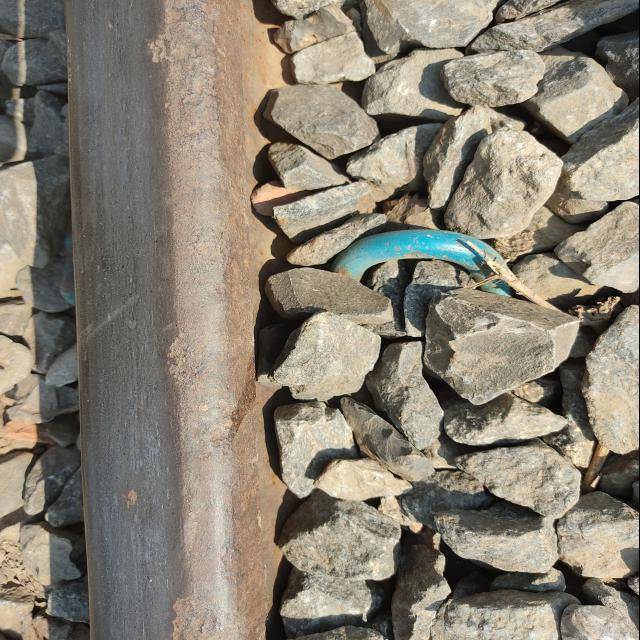squats_high: (171, 596, 233, 640), (146, 34, 174, 64), (121, 488, 145, 504)
